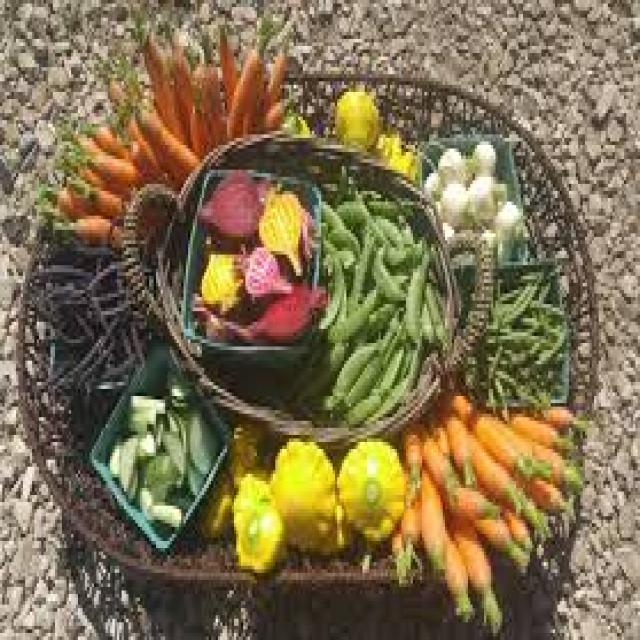organic waste: (468, 272, 564, 396), (447, 386, 546, 484), (266, 431, 337, 548), (328, 435, 401, 548), (39, 304, 126, 393), (117, 85, 197, 180), (136, 14, 190, 145), (222, 7, 273, 134), (229, 276, 326, 339), (450, 516, 500, 630), (128, 92, 198, 173), (232, 463, 282, 569), (87, 286, 145, 368), (367, 226, 406, 346), (461, 438, 521, 513), (254, 180, 300, 272), (326, 339, 376, 421), (514, 428, 578, 491), (200, 166, 259, 234), (284, 339, 342, 406), (44, 237, 114, 290), (64, 131, 140, 177), (236, 237, 292, 297), (32, 202, 117, 240), (324, 279, 378, 336), (360, 188, 411, 248), (420, 463, 447, 573), (333, 82, 376, 148), (197, 244, 241, 308), (445, 399, 475, 492), (509, 410, 569, 456), (420, 417, 456, 492), (480, 513, 528, 569), (42, 283, 90, 339), (442, 530, 472, 619), (360, 208, 404, 268), (94, 50, 135, 113), (66, 162, 122, 208), (156, 406, 188, 484), (50, 141, 108, 184), (105, 428, 140, 498), (186, 399, 218, 474), (136, 477, 182, 527), (198, 470, 230, 541), (260, 28, 292, 99), (314, 237, 340, 322), (165, 28, 188, 124), (112, 43, 147, 106), (216, 14, 240, 103), (140, 442, 177, 499), (404, 240, 424, 343), (339, 350, 378, 400), (222, 414, 257, 466), (372, 234, 402, 294), (530, 467, 569, 512), (192, 293, 232, 336), (83, 116, 126, 156), (34, 177, 82, 212), (544, 396, 587, 435), (399, 495, 418, 583), (464, 174, 494, 226), (436, 141, 472, 184), (493, 198, 523, 244), (186, 88, 206, 156), (126, 389, 163, 424), (241, 71, 261, 134), (261, 92, 296, 127), (438, 177, 468, 216), (523, 495, 548, 541), (504, 506, 534, 544), (422, 280, 441, 340), (402, 421, 418, 491), (466, 134, 493, 174), (381, 343, 401, 396), (326, 216, 356, 251), (372, 124, 399, 162), (167, 364, 195, 400), (316, 194, 342, 230), (211, 92, 229, 141), (197, 85, 211, 148), (374, 209, 399, 244), (335, 194, 365, 223), (432, 410, 448, 463), (282, 110, 310, 134), (394, 138, 413, 173), (330, 276, 349, 311), (422, 166, 441, 198), (128, 432, 160, 446), (438, 209, 454, 237), (390, 523, 401, 559), (488, 177, 504, 198)
